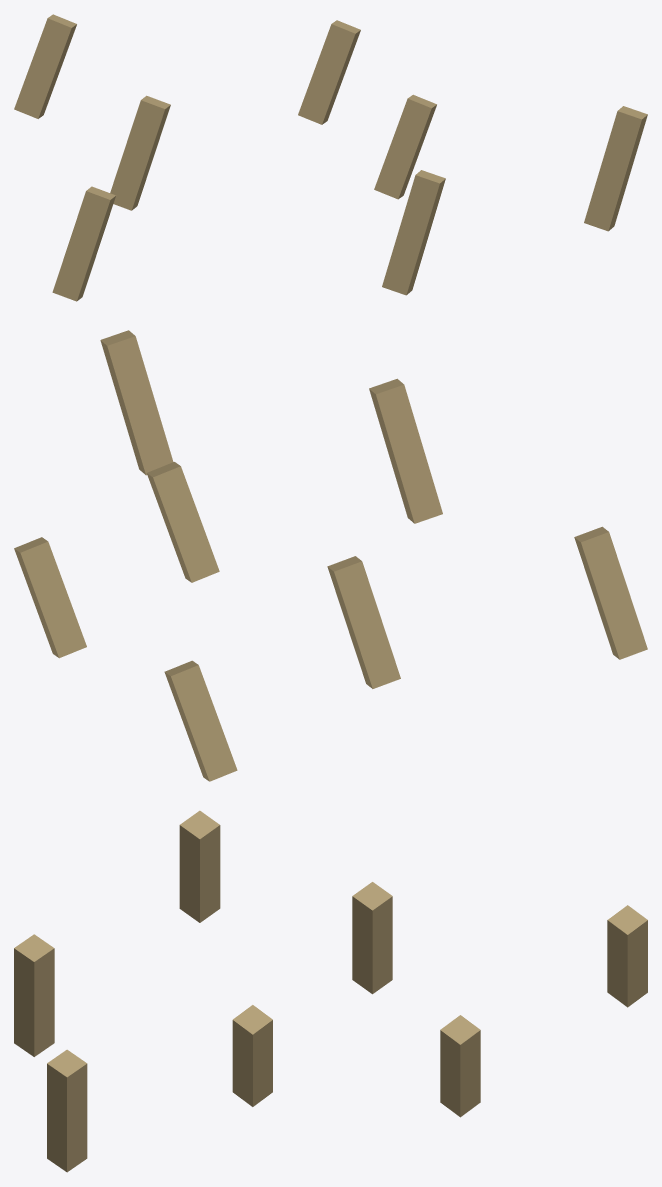
Rendered from plant_wild_grain_dormant.glb.
The picture shows the model from 3 angles, top to bottom: view 1: azimuth 30°, elevation 25°; view 2: azimuth 150°, elevation 25°; view 3: azimuth 270°, elevation 25°; orthographic projection. The views are drawn at different scales.
Visible parts, largest first — view 1: plant_wild_grain_dormant; view 2: plant_wild_grain_dormant; view 3: plant_wild_grain_dormant.
Boxes of the visible parts, x1,y1,x2,y2 form: plant_wild_grain_dormant: (14,14,647,301); plant_wild_grain_dormant: (14,330,647,781); plant_wild_grain_dormant: (14,810,647,1172).
Size of the model in its own units: 0.3978 by 0.0823 by 0.3756.
